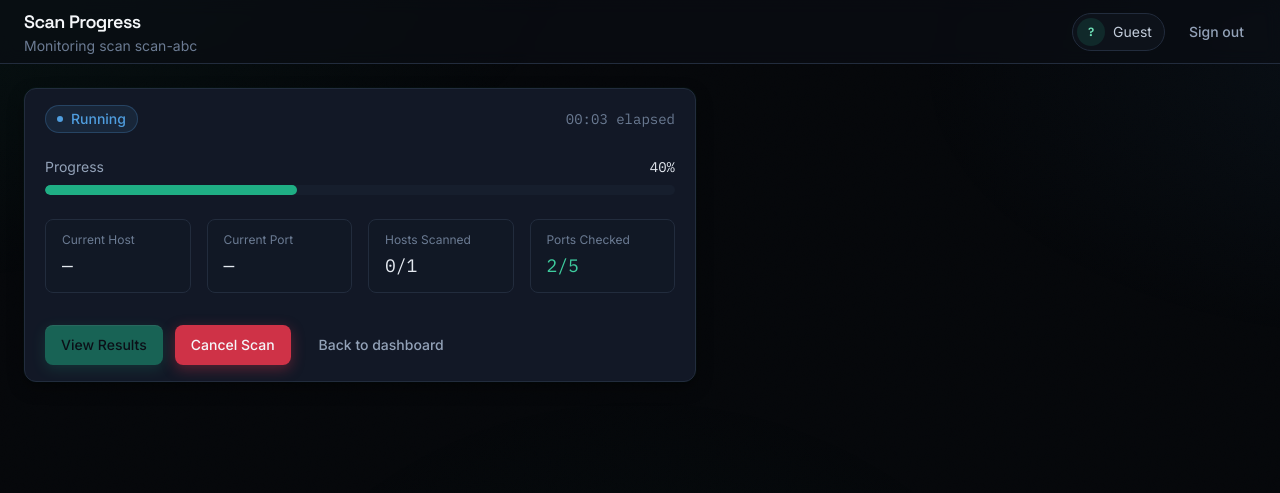
Test: ScanProgress › shows an error when cancelling fails
Click the button "Cancel Scan" at (233, 345), box [175, 325, 291, 365]
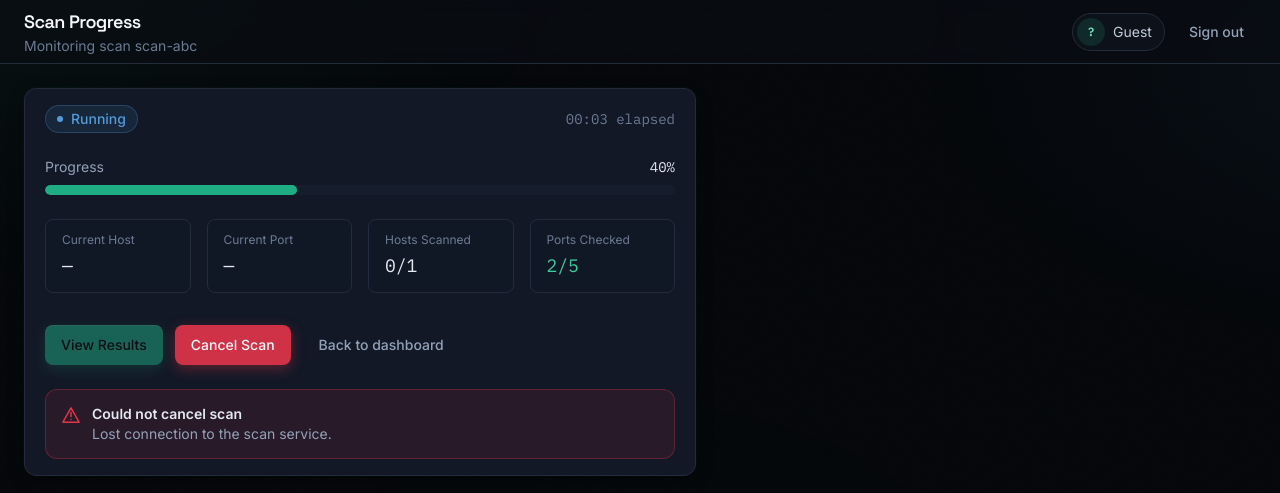
Now the text "Could not cancel scan" is shown, box [92, 405, 242, 422]
